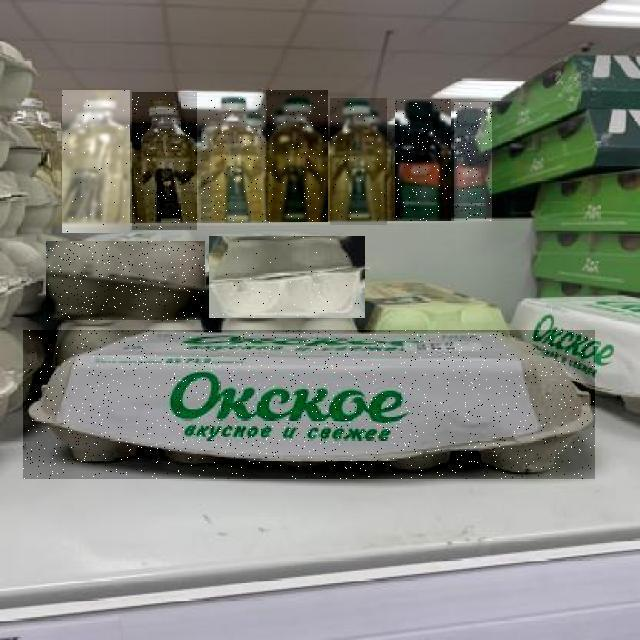Eggs: (23, 330, 595, 479), (209, 237, 365, 319), (46, 242, 205, 322), (62, 90, 130, 233), (132, 92, 197, 230), (201, 94, 270, 223), (267, 90, 329, 222), (330, 98, 387, 225), (395, 99, 451, 221), (454, 102, 492, 221)
